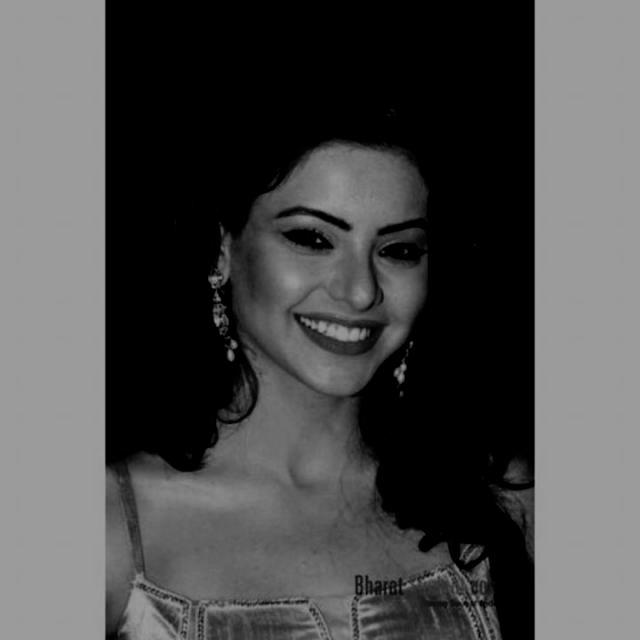real: (228, 168, 432, 398)
